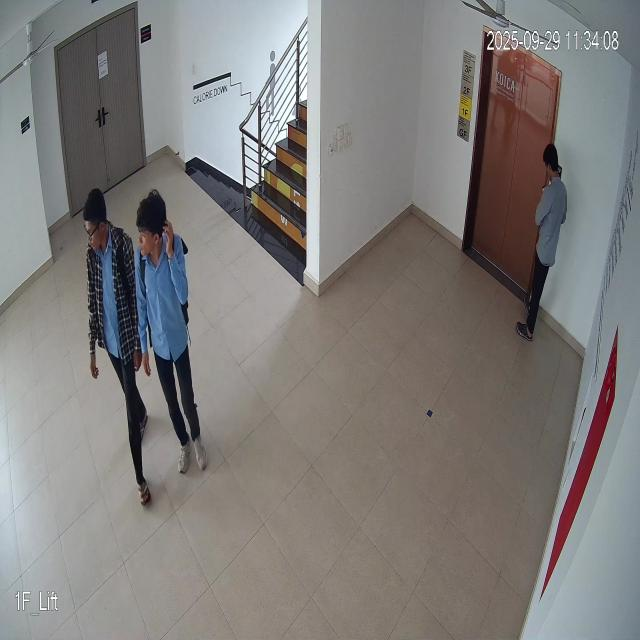face: (134, 188, 173, 260), (82, 184, 110, 256)
